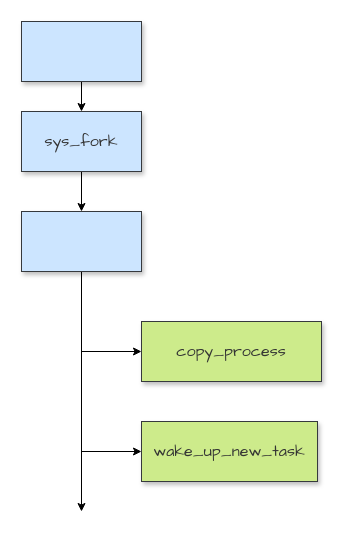
This 345x537 diagram has some shape labels left out. Here are the shapes that lost their labels. From the top down, the centre of each, then its label:
At (82,52): "fork".
At (82,242): "_do_fork".
